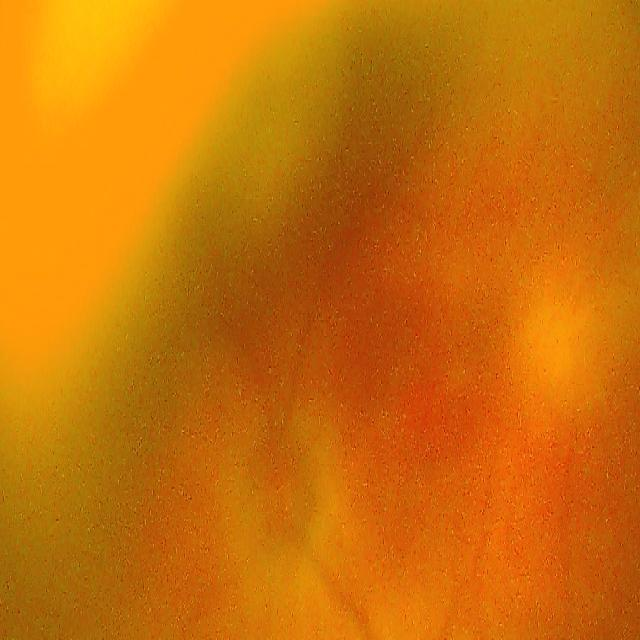optic-nerve: (228, 393, 336, 594)
